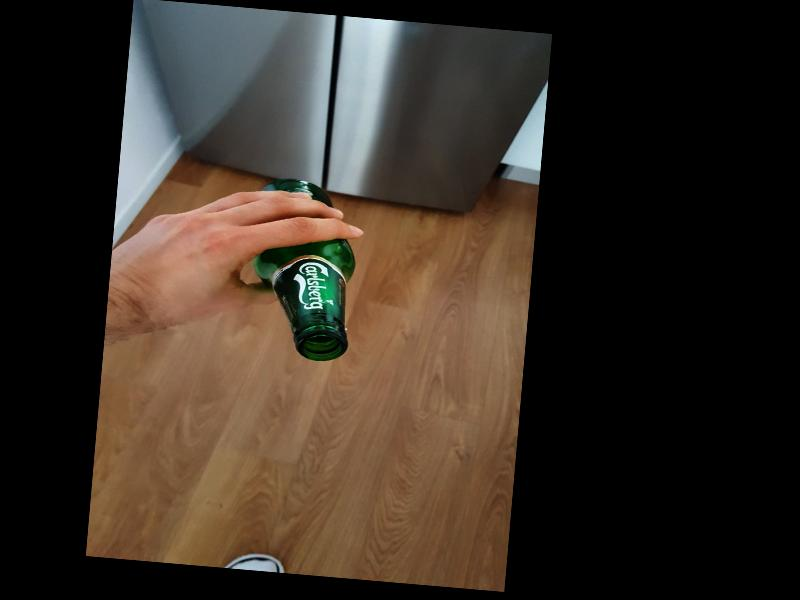Beer: (246, 176, 360, 363)
